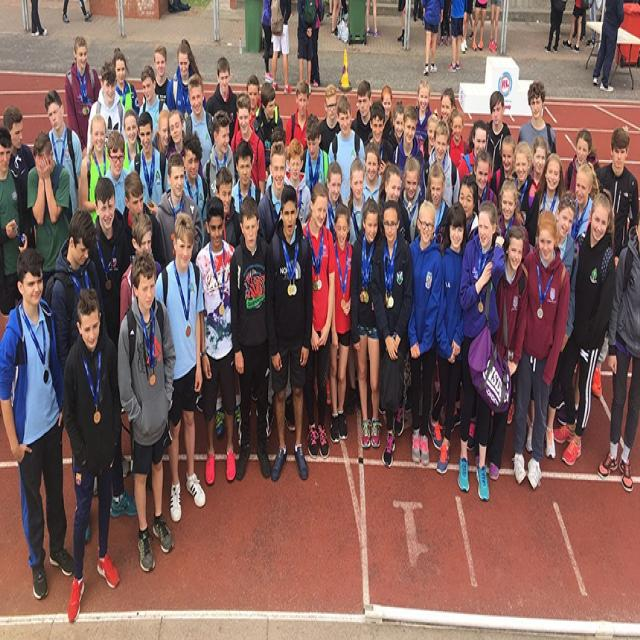body: (111, 45, 393, 640), (42, 206, 139, 546), (0, 241, 77, 610), (60, 285, 122, 629), (115, 248, 177, 572), (550, 190, 617, 467), (154, 208, 206, 523), (513, 208, 571, 490), (455, 197, 507, 501), (522, 188, 578, 462), (268, 184, 314, 484), (89, 175, 131, 494), (229, 194, 273, 482), (595, 211, 640, 492), (554, 158, 600, 428), (195, 196, 237, 487), (428, 196, 468, 478), (371, 197, 411, 468), (407, 198, 443, 468), (348, 196, 386, 451), (301, 179, 335, 462), (495, 222, 529, 480), (26, 130, 74, 304), (0, 122, 32, 340), (594, 126, 638, 270), (344, 157, 368, 415), (328, 201, 353, 447), (42, 88, 84, 226), (155, 150, 204, 264), (2, 103, 39, 250), (65, 35, 103, 162), (121, 168, 166, 274), (327, 92, 367, 208), (128, 109, 170, 218), (523, 152, 566, 250), (229, 92, 267, 198), (262, 139, 299, 247), (78, 112, 112, 229), (256, 140, 292, 248), (164, 36, 208, 121), (181, 72, 218, 172), (89, 58, 127, 154), (422, 119, 461, 211), (204, 108, 240, 206), (494, 177, 529, 273), (204, 55, 240, 148), (512, 140, 540, 252), (516, 78, 557, 154), (208, 164, 244, 248), (592, 0, 625, 90), (562, 127, 600, 205), (396, 152, 427, 246), (167, 108, 204, 186), (252, 80, 284, 170), (229, 140, 264, 220), (299, 112, 331, 198), (484, 88, 514, 177), (283, 138, 312, 228), (137, 64, 169, 144), (180, 127, 208, 218), (269, 0, 295, 95), (392, 105, 424, 182), (458, 120, 493, 189), (363, 101, 394, 178), (102, 127, 129, 215), (284, 80, 314, 152), (426, 163, 451, 247), (376, 160, 404, 230), (419, 0, 444, 77), (491, 132, 520, 198), (322, 160, 344, 243), (233, 72, 262, 134), (317, 83, 342, 154), (296, 0, 315, 92), (472, 148, 498, 214), (350, 79, 374, 150), (447, 105, 473, 168), (384, 100, 408, 166), (457, 176, 480, 242), (310, 0, 326, 87), (121, 108, 142, 171), (361, 141, 382, 204), (447, 0, 465, 73), (562, 0, 586, 54), (152, 44, 170, 113), (529, 135, 549, 195), (418, 108, 440, 162), (151, 106, 173, 159), (545, 0, 567, 52), (261, 0, 274, 86), (414, 80, 434, 132), (327, 0, 349, 44), (471, 0, 489, 52), (62, 0, 94, 25), (379, 83, 393, 139), (487, 0, 501, 54), (29, 0, 48, 39), (440, 87, 458, 125), (395, 0, 409, 47), (462, 0, 472, 63), (366, 0, 380, 37), (440, 0, 449, 48), (410, 0, 425, 19), (166, 0, 189, 12), (581, 0, 587, 39), (573, 18, 578, 40)
